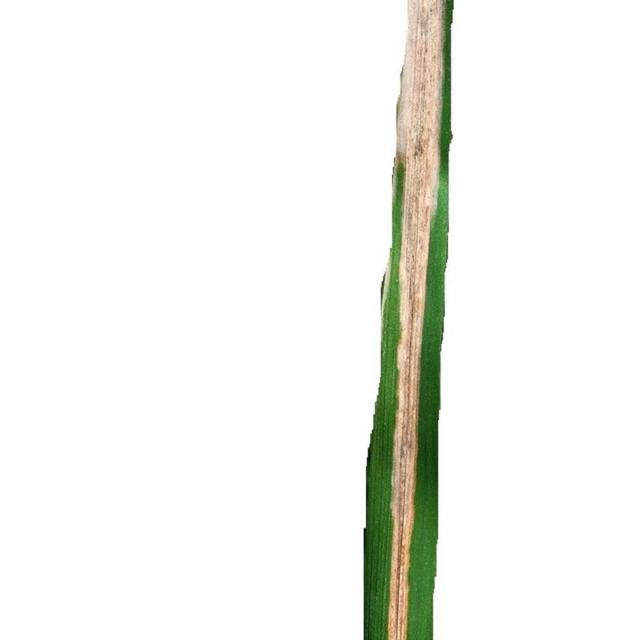Bacterial leaf blight: (362, 0, 455, 638)
